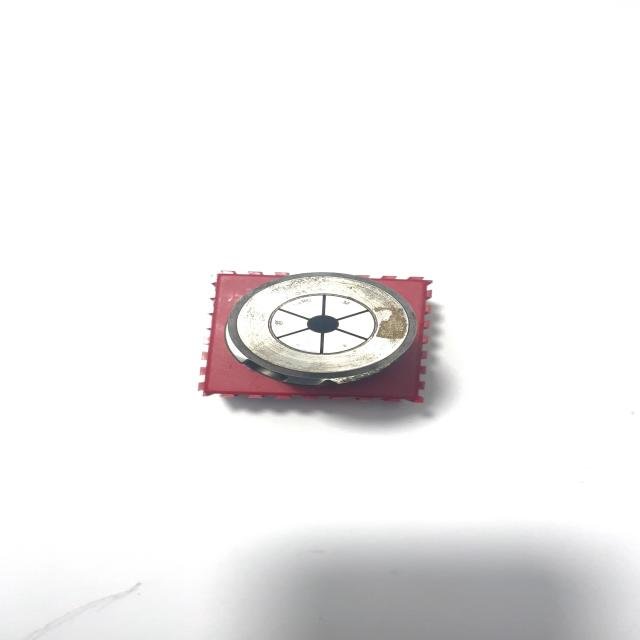Filled_Slot: (197, 273, 430, 403)
